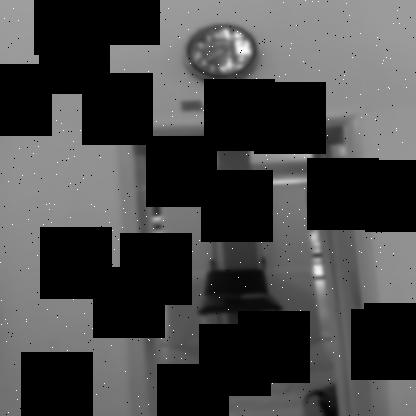Porte: (111, 113, 387, 415)
